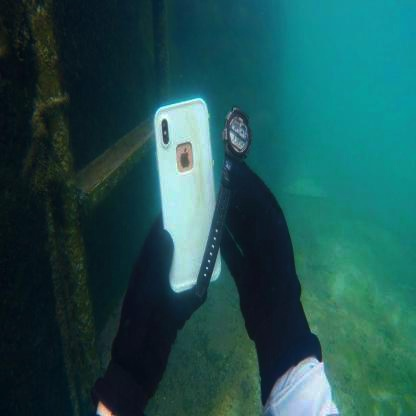cellphone: (152, 94, 223, 293)
misc: (195, 102, 253, 301)
